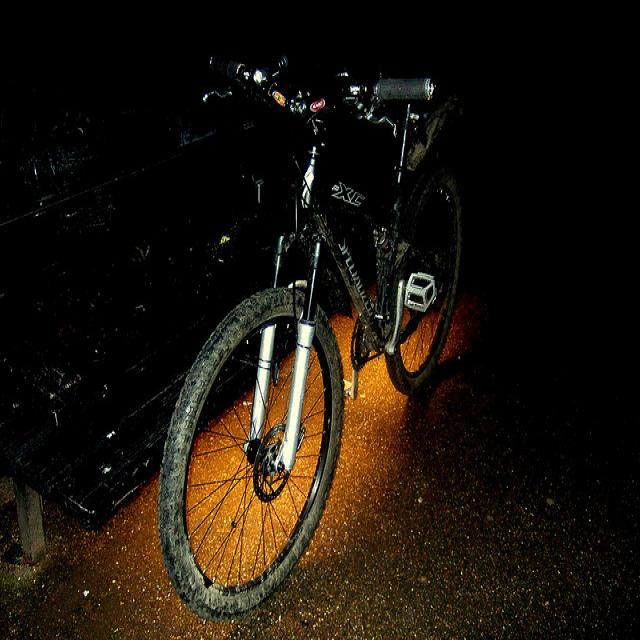Bicycle: (77, 26, 524, 623)
